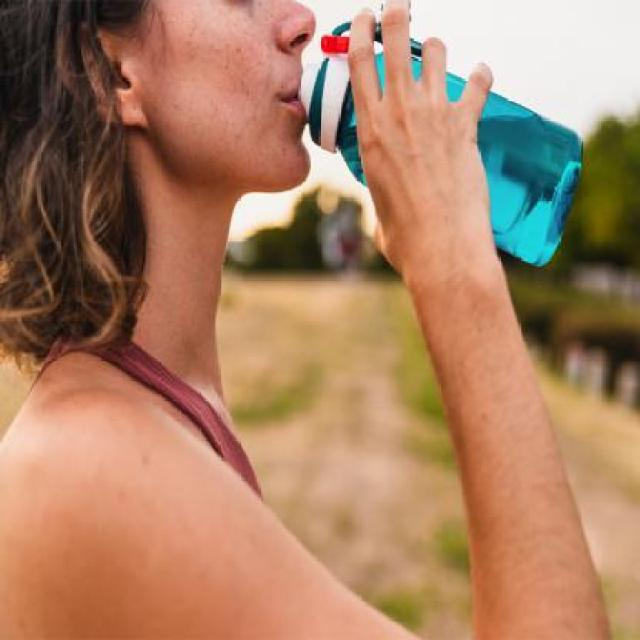Drinking: (298, 1, 594, 290)
